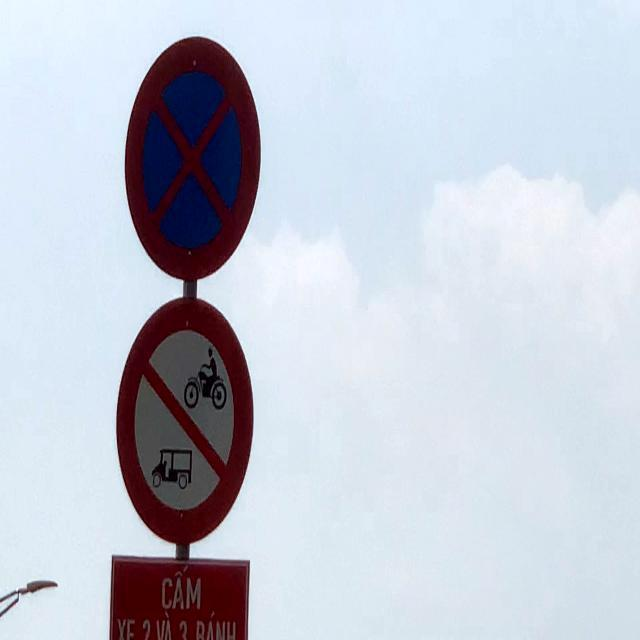Cam dung xe va do xe: (120, 28, 264, 290)
